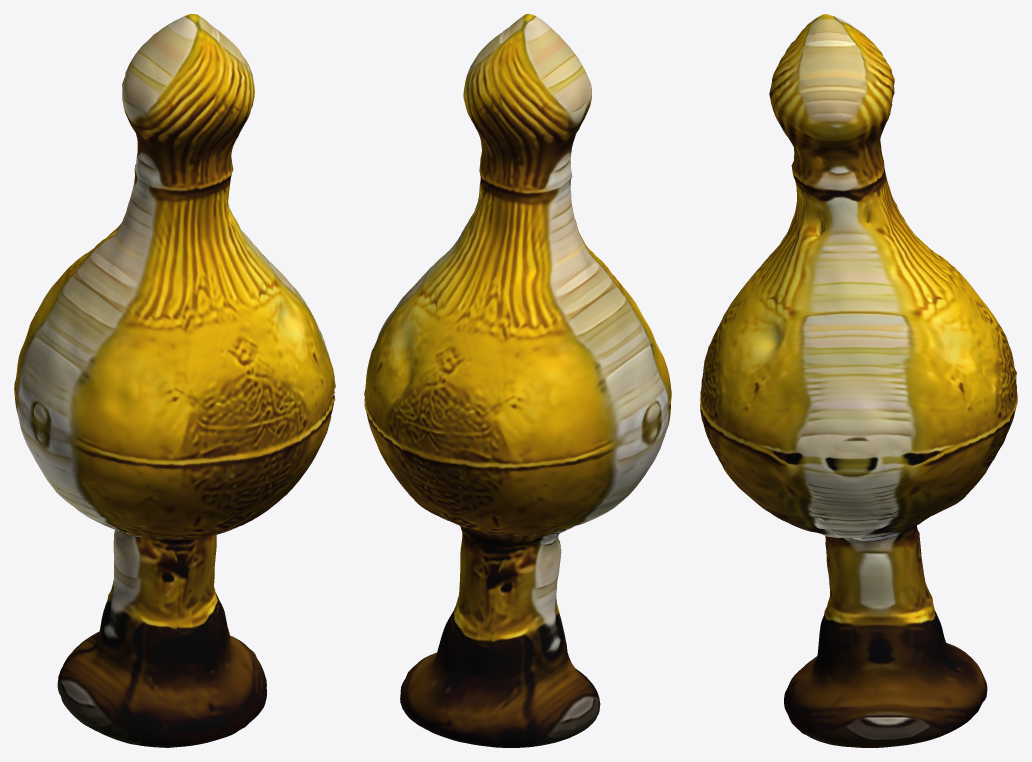
Rendered from kfl-2292.glb.
The picture shows the model from 3 angles, left to right: view 1: azimuth 30°, elevation 25°; view 2: azimuth 150°, elevation 25°; view 3: azimuth 270°, elevation 25°; orthographic projection. The views are drawn at different scales.
Parts seen in each view (by area): view 1: kfl-2292; view 2: kfl-2292; view 3: kfl-2292.
Boxes of the visible parts, x1,y1,x2,y2 form: kfl-2292: [14, 14, 335, 747]; kfl-2292: [364, 14, 671, 747]; kfl-2292: [700, 14, 1017, 747].
Size of the model in its own units: 0.4038 by 0.9916 by 0.4042.
1 material, 1 textured.
